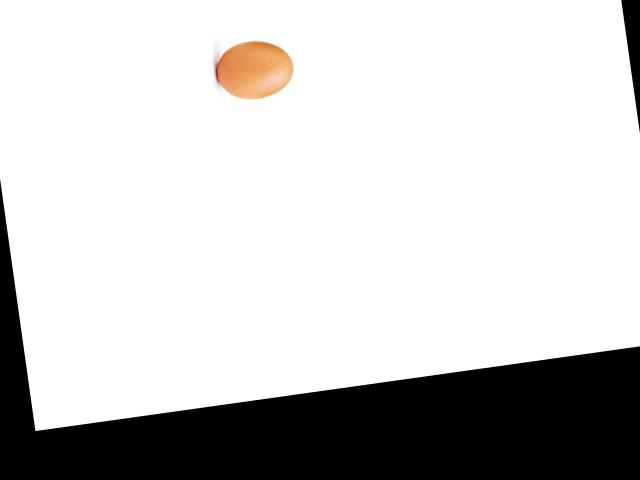egg: (213, 36, 295, 103)
